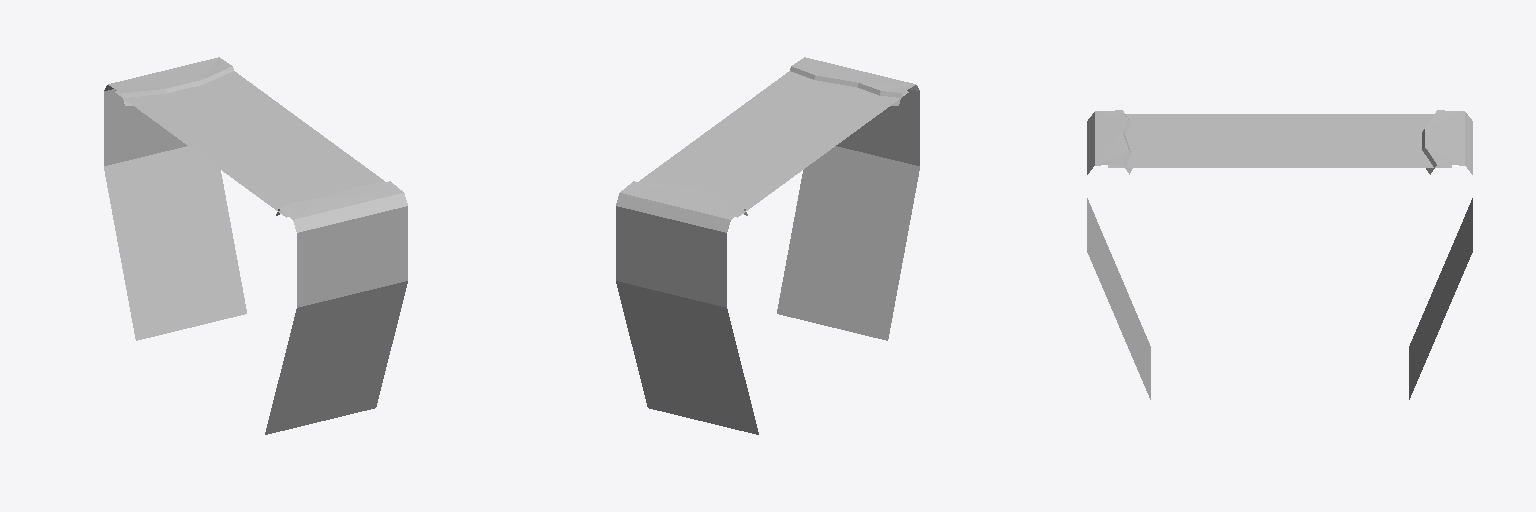
The model's file is module_tile_01_bd.obj.
3 renders of one model, left to right at view 1: azimuth 30°, elevation 25°; view 2: azimuth 150°, elevation 25°; view 3: azimuth 270°, elevation 25°, orthographic.
Parts seen in each view (by area): view 1: module_tile_01_bd; view 2: module_tile_01_bd; view 3: module_tile_01_bd.
Part boxes in pixels (bbox=[...]): module_tile_01_bd: bbox=[104, 57, 407, 434]; module_tile_01_bd: bbox=[616, 57, 919, 434]; module_tile_01_bd: bbox=[1087, 110, 1472, 399].
Size of the model in its own units: 200 by 406 by 600.